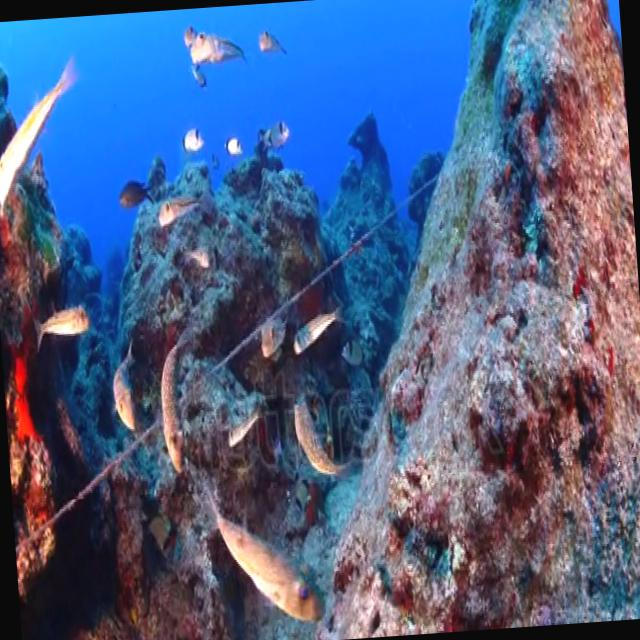Balon Baligi: (202, 478, 328, 636), (0, 50, 89, 218), (286, 376, 352, 484), (158, 328, 200, 476), (31, 290, 93, 358), (110, 338, 143, 436), (187, 26, 248, 79), (290, 301, 342, 353), (150, 187, 204, 231), (257, 20, 289, 64)
